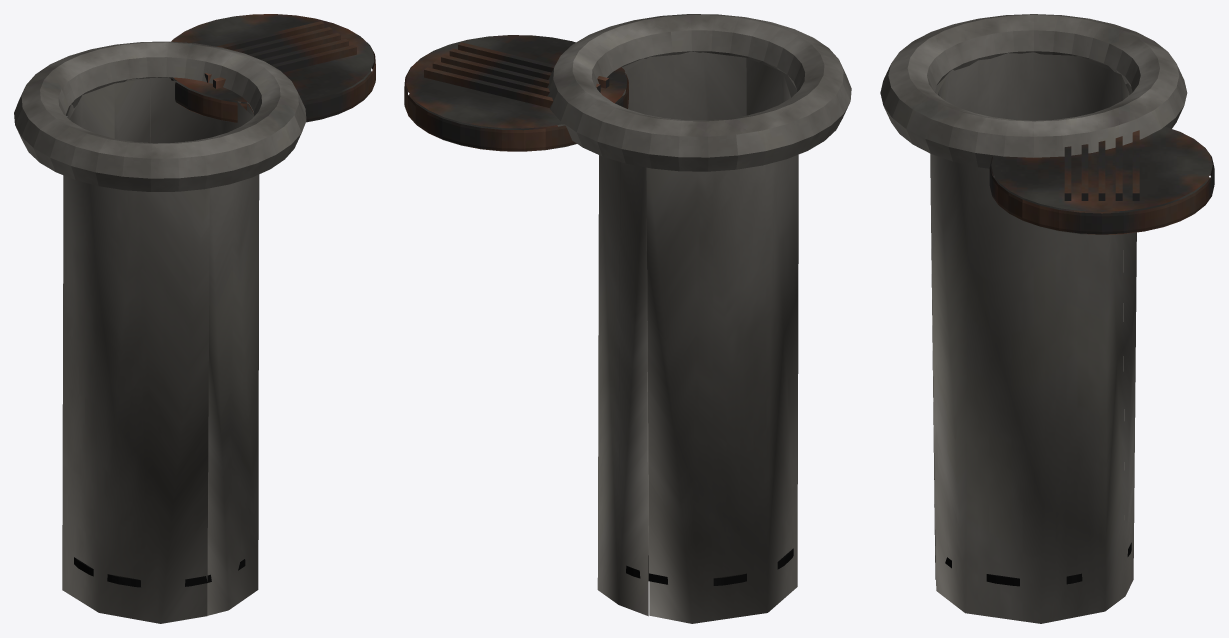
File: ST13_OpenManhole.glb
3 renders of one model, left to right at view 1: azimuth 30°, elevation 25°; view 2: azimuth 150°, elevation 25°; view 3: azimuth 270°, elevation 25°, orthographic. The views are drawn at different scales.
Parts seen in each view (by area): view 1: ST13_OpenManhole; view 2: ST13_OpenManhole; view 3: ST13_OpenManhole.
Part boxes in pixels (x1,y1,x2,y2): ST13_OpenManhole: (14,14,375,623); ST13_OpenManhole: (404,14,851,623); ST13_OpenManhole: (880,14,1214,623).
Bounding box in the file's own units: 0.6187 × 0.8 × 0.4737.
Materials: 3 (3 with a texture image).
